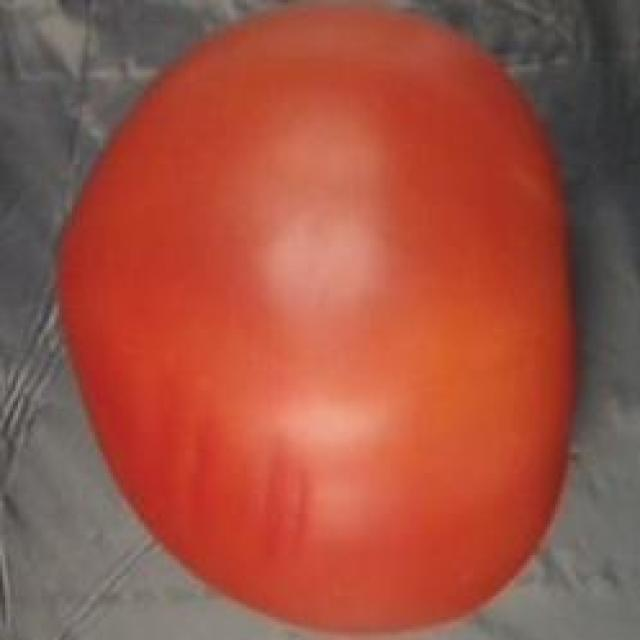ripe tomato: (43, 2, 588, 640)
